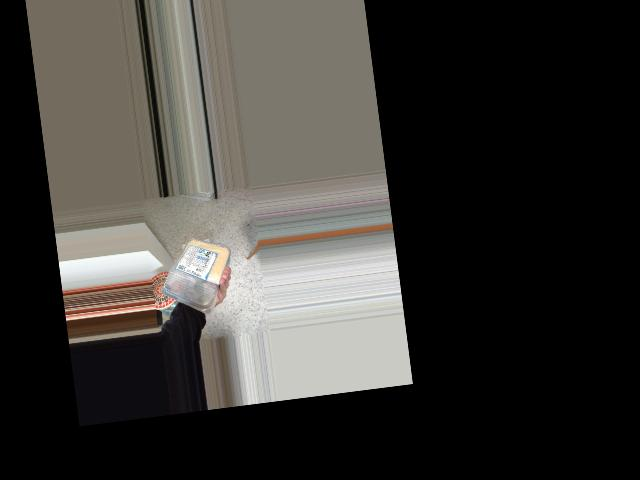cheese: (151, 232, 230, 301)
